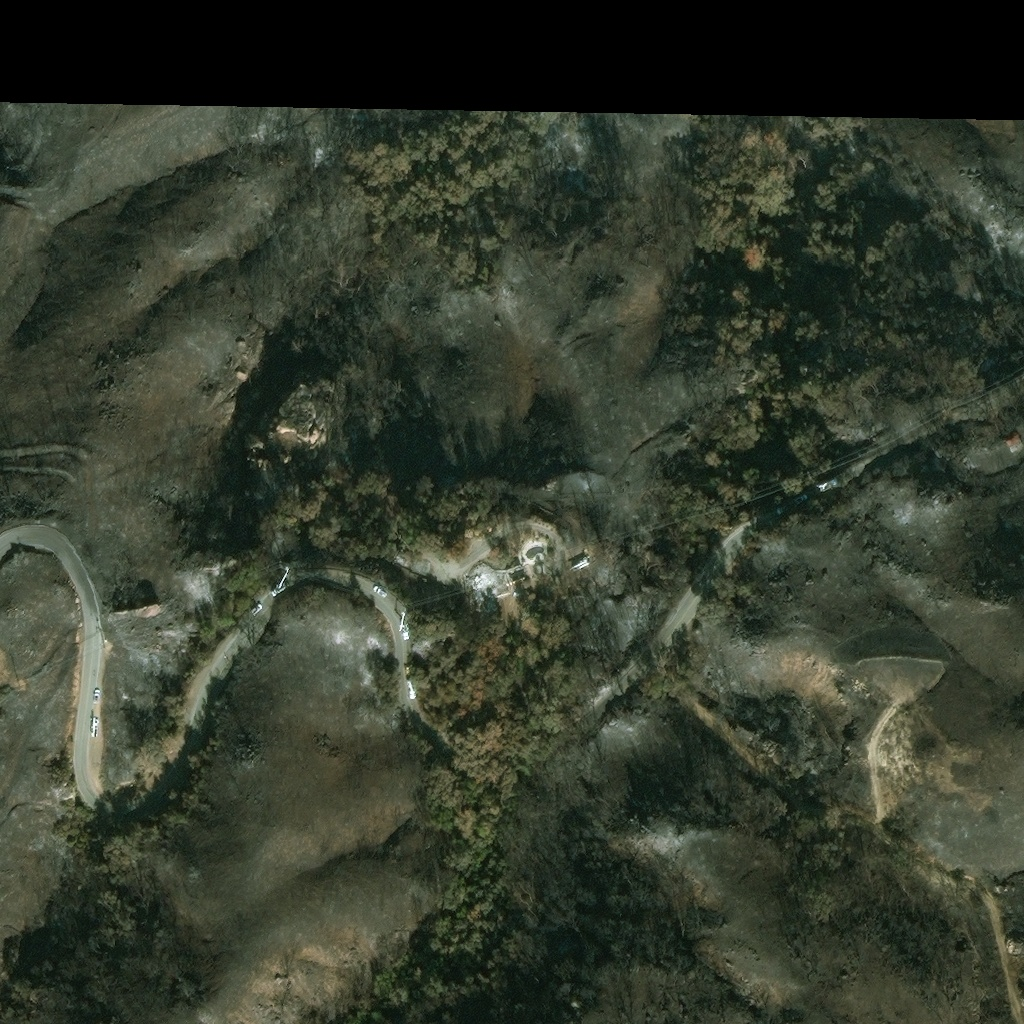0 no-damage: (1009, 439, 1020, 451)
3 destroyed: (463, 568, 497, 601), (504, 562, 527, 582), (405, 552, 428, 571), (392, 551, 406, 564), (498, 580, 509, 593), (541, 479, 552, 488)
